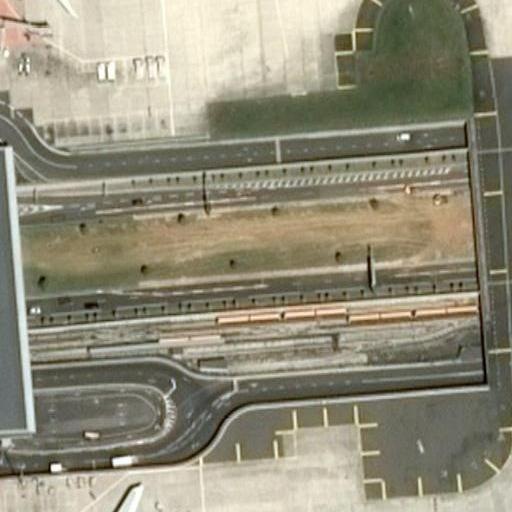Aircraft: (19, 473, 221, 512), (0, 0, 139, 23)
